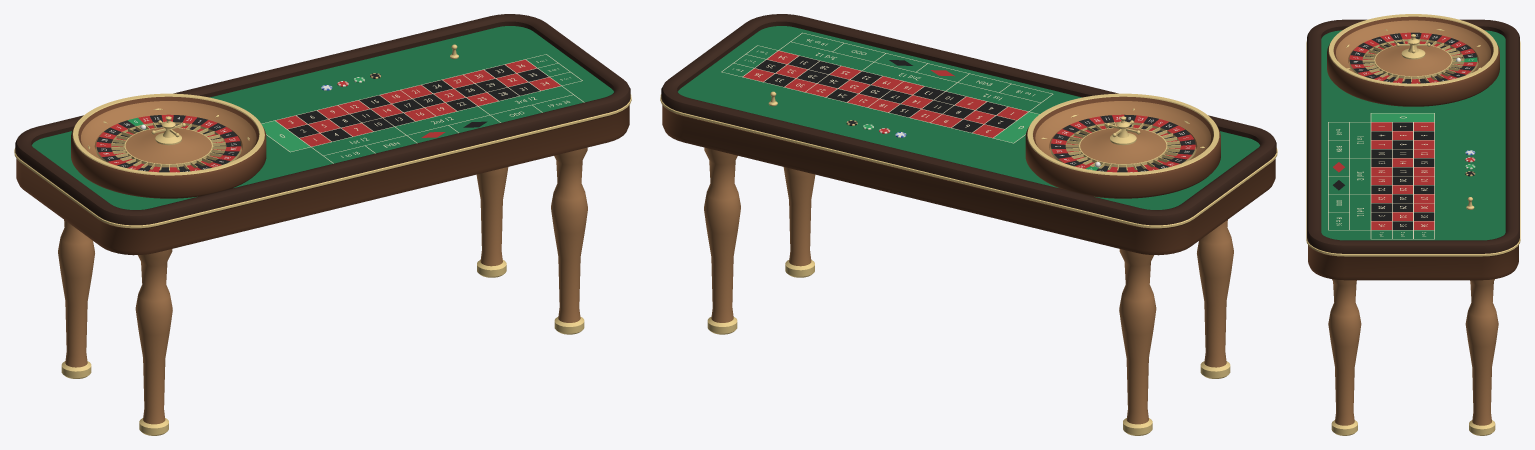
The model's file is RouletteTable.fbx.
The picture shows the model from 3 angles, left to right: view 1: azimuth 30°, elevation 25°; view 2: azimuth 150°, elevation 25°; view 3: azimuth 270°, elevation 25°; orthographic projection. The views are drawn at different scales.
Parts seen in each view (by area): view 1: Table, Layout, Bowl, Rotor; view 2: Table, Layout, Bowl, Rotor; view 3: Table, Layout, Bowl, Rotor.
Boxes of the visible parts, <box> form: Table: <box>14,14,631,435</box>; Layout: <box>261,54,584,163</box>; Bowl: <box>71,93,266,198</box>; Rotor: <box>96,114,240,172</box>; Table: <box>660,14,1277,435</box>; Layout: <box>721,32,1053,143</box>; Bowl: <box>1025,93,1220,198</box>; Rotor: <box>1051,114,1195,172</box>; Table: <box>1306,19,1520,435</box>; Layout: <box>1328,113,1434,239</box>; Bowl: <box>1327,14,1499,106</box>; Rotor: <box>1349,32,1477,83</box>.
Bounding box in the file's own units: 2.28 × 1.12 × 0.906.
